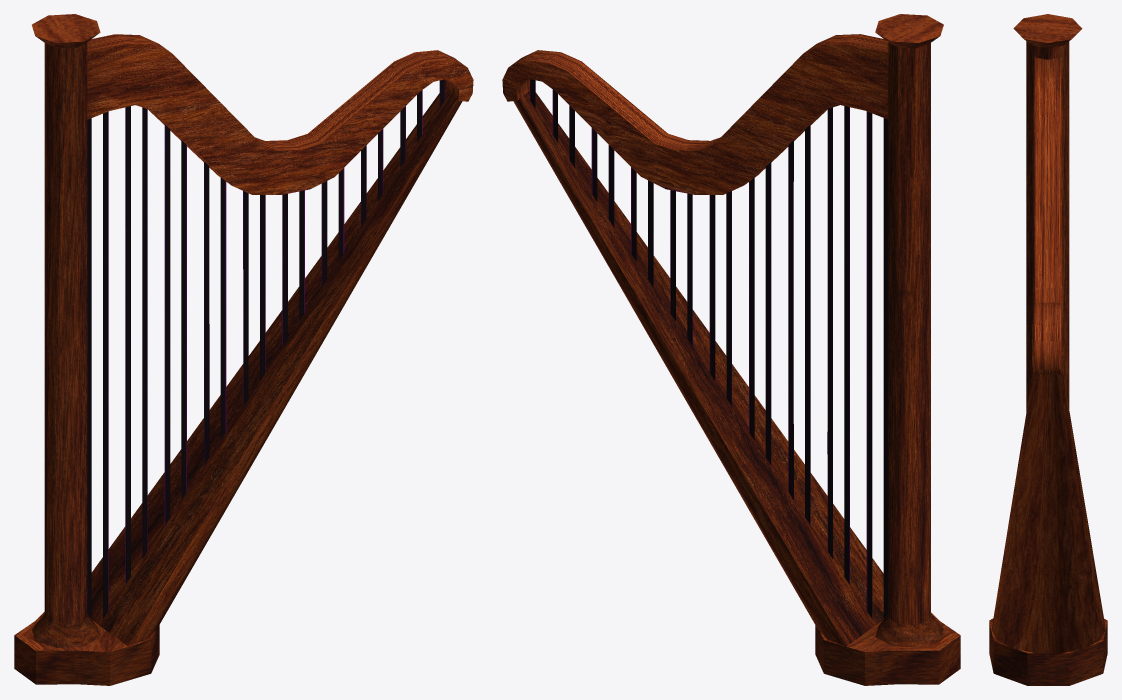
Rendered from mm9_deco_harp.glb.
3 renders of one model, left to right at view 1: azimuth 30°, elevation 25°; view 2: azimuth 150°, elevation 25°; view 3: azimuth 270°, elevation 25°, orthographic. The views are drawn at different scales.
Visible parts, largest first — view 1: Harp; view 2: Harp; view 3: Harp.
Boxes of the visible parts, <box> form: Harp: <box>14,14,473,685</box>; Harp: <box>502,14,960,685</box>; Harp: <box>989,14,1107,685</box>.
Bounding box in the file's own units: 1.75 × 2.42 × 0.4198.
Materials: 1 (1 with a texture image).
